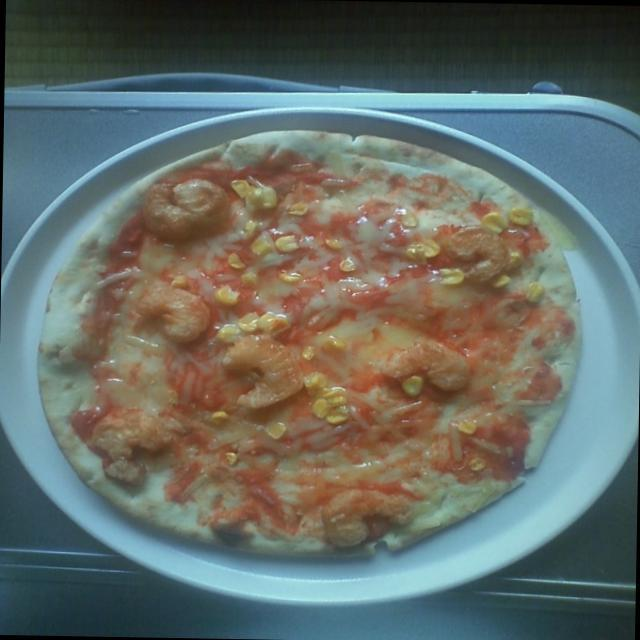Pizza: (27, 112, 580, 553)
